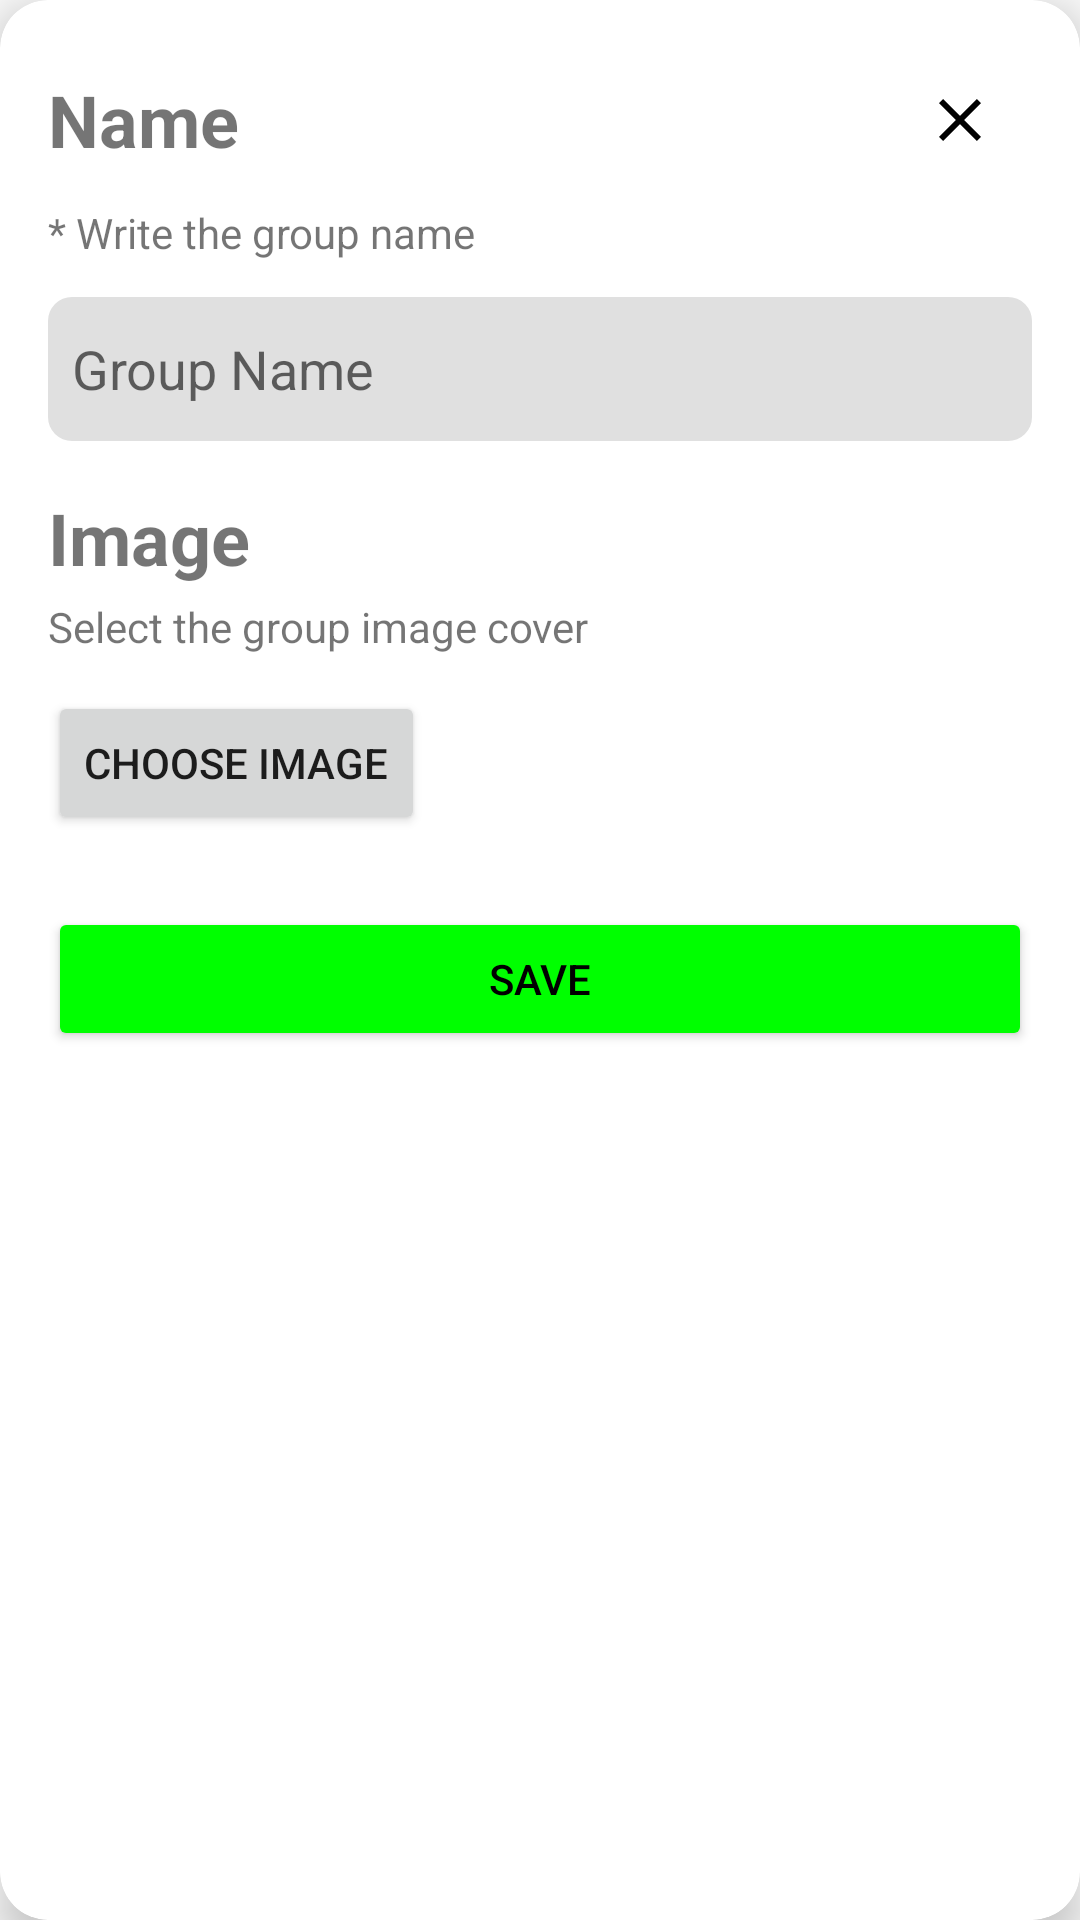

Point at icon controls on the screen. Image size 1080px×1920px, points as (x=x, y=y).
close: (x=960, y=120)
